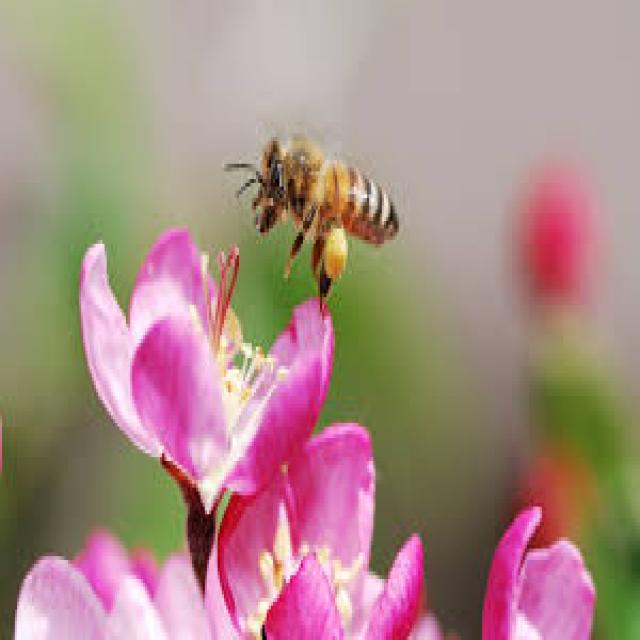Bees: (223, 125, 401, 308)
